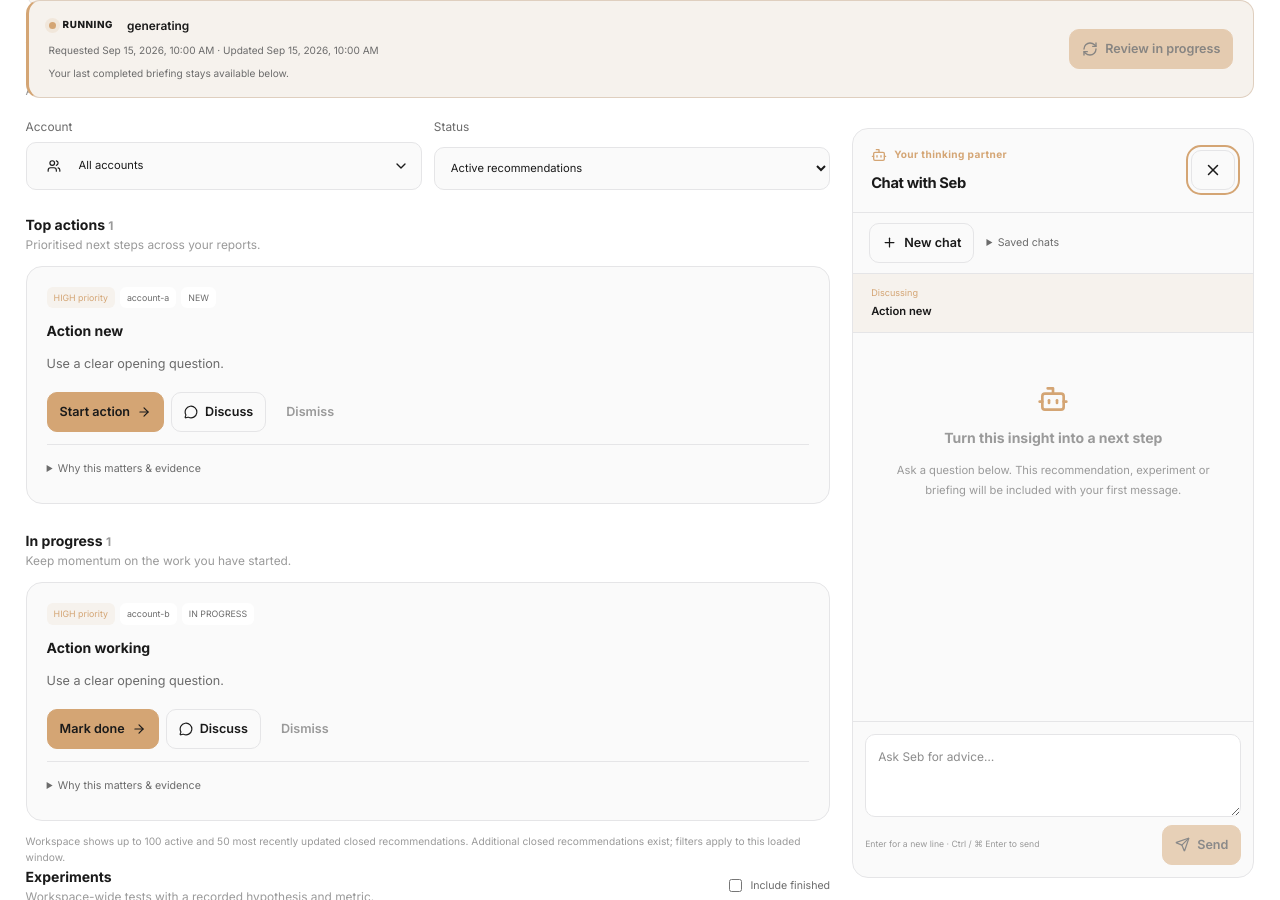
Test: Seb workspace › resolves a contextual deep link after the workspace loads
(page scrolled)
Expected: the dialog "Chat with Seb" is shown, [852,128,1254,878]
Expected: the text "Discussing" is shown, [871,287,918,298]
Type "Help me start" into the text box named "Message Seb". click: [1053, 776]
box: [865,734,1241,817]
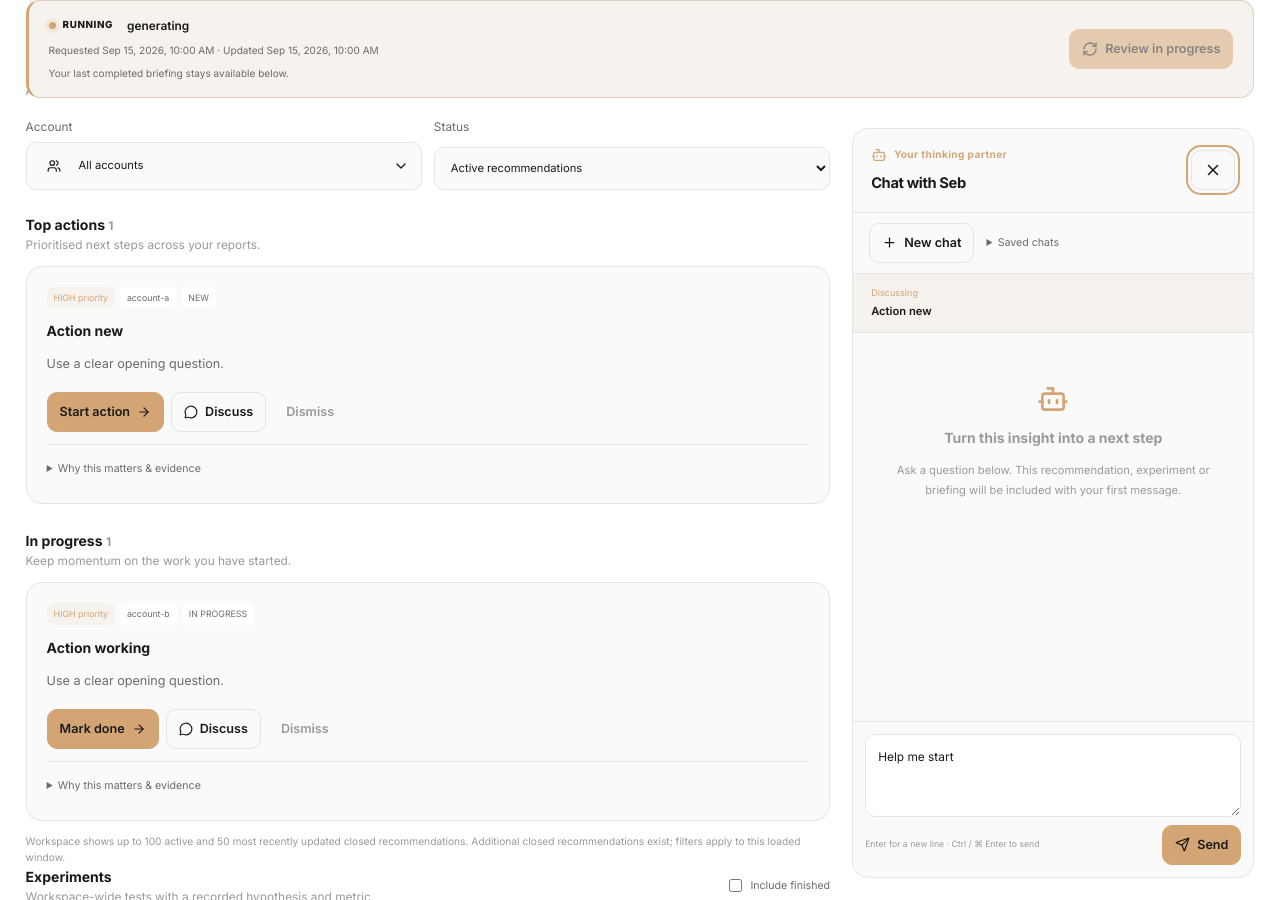
Click the button "Send". click: [1202, 845]
box: [1162,825,1241,865]
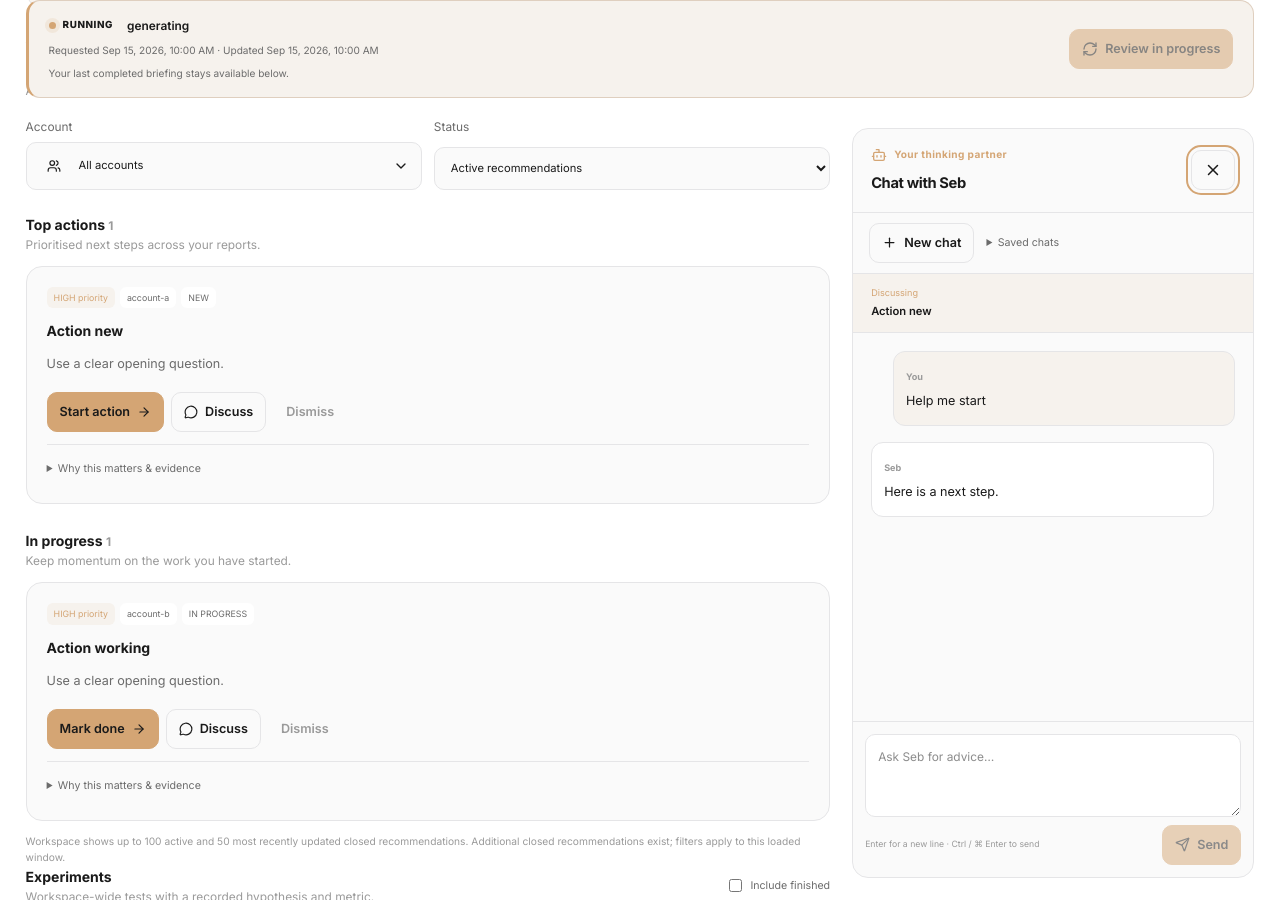
Expected: the text "Discussing" is shown, [871,287,918,298]
Expected: the text "Here is a next step." is shown, [884,484,999,499]
